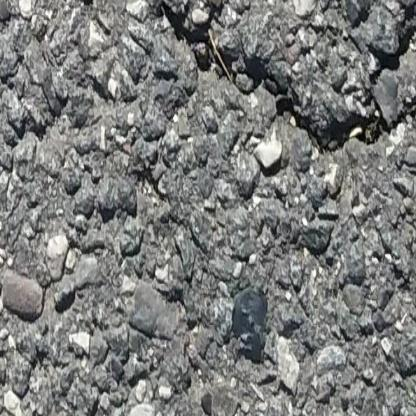Cracks: (162, 0, 416, 166)
